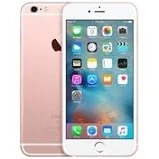iphone: (61, 1, 136, 159)
iphone6: (61, 1, 136, 159)
